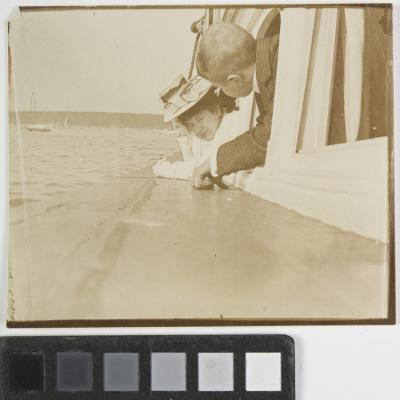photos_negatives: (10, 12, 392, 322)
